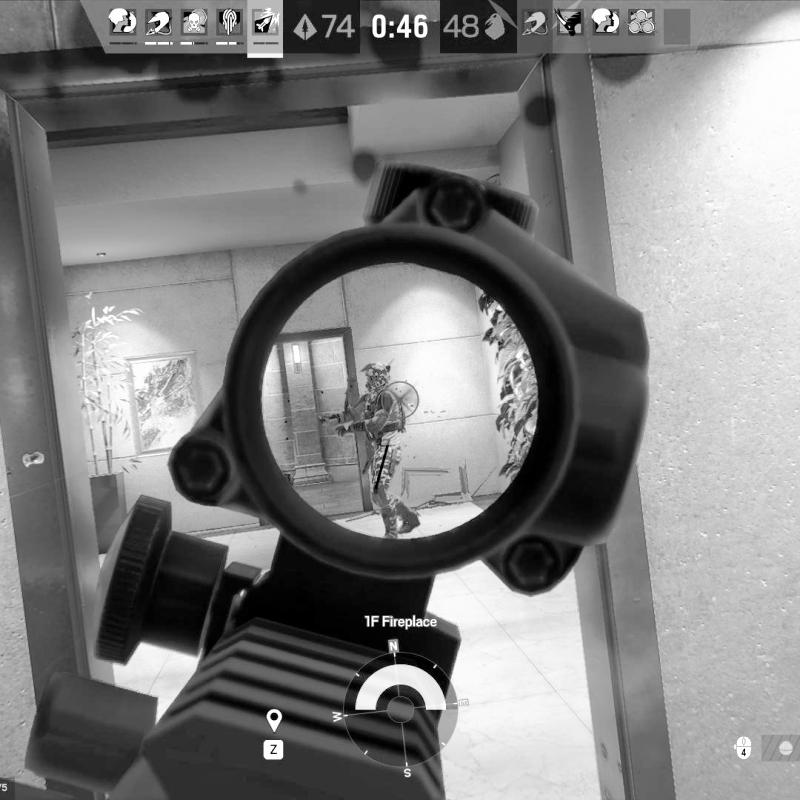Character: (319, 360, 423, 536)
Head: (361, 363, 393, 392)
